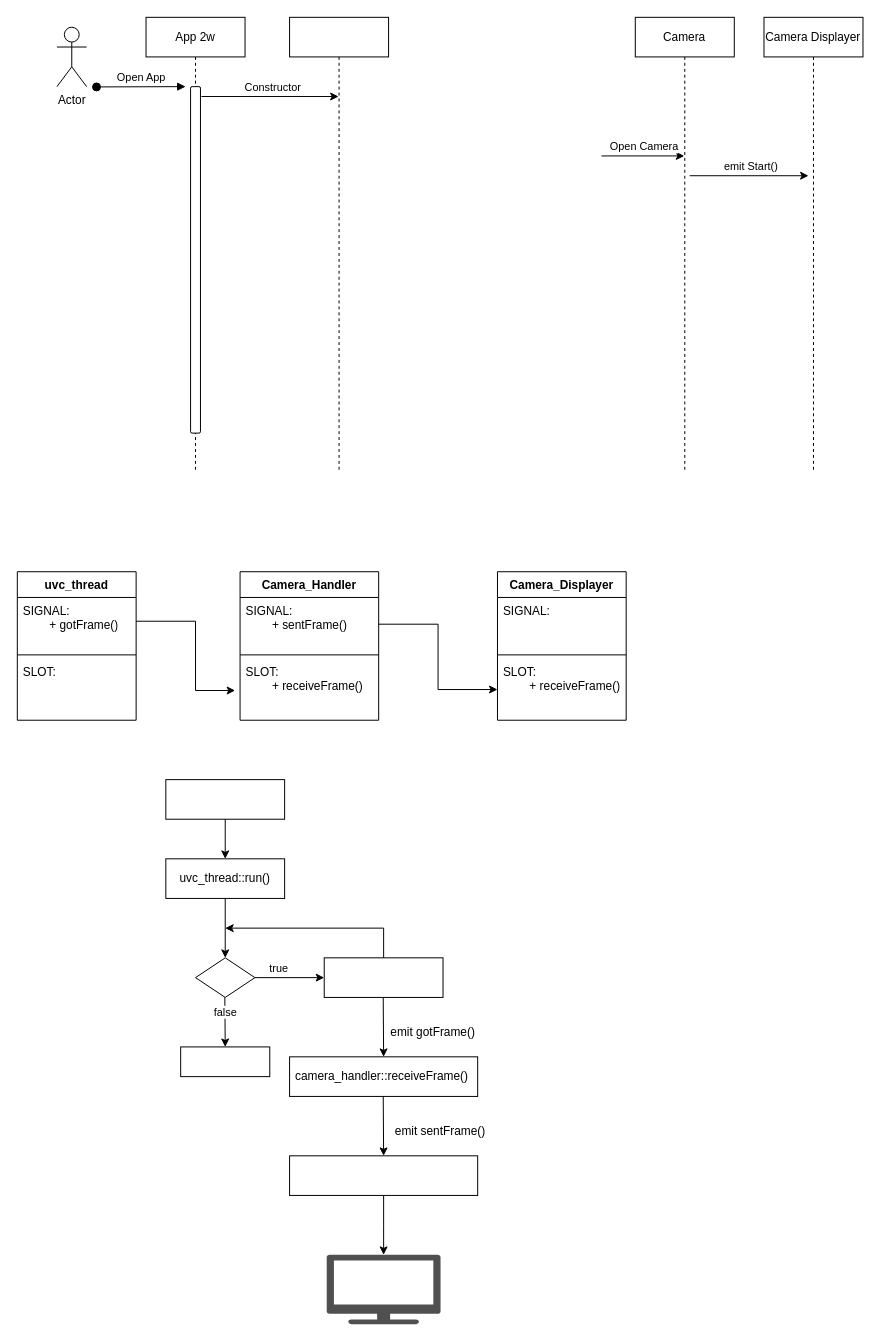
Image size: 881x1341. Some labels were removed from this diagram. The shapes that lost their labels are listed below. From the top down, each one's box as (x1, y1, x2, y2) in pixels, then its label:
(289, 16, 389, 473): GuiApplication
(165, 779, 285, 819): uvc_thread::start()
(323, 957, 443, 997): uvc_thread::cb()
(180, 1046, 270, 1077): Exit program
(289, 1155, 478, 1195): camera_displayer::receiveFrame()
